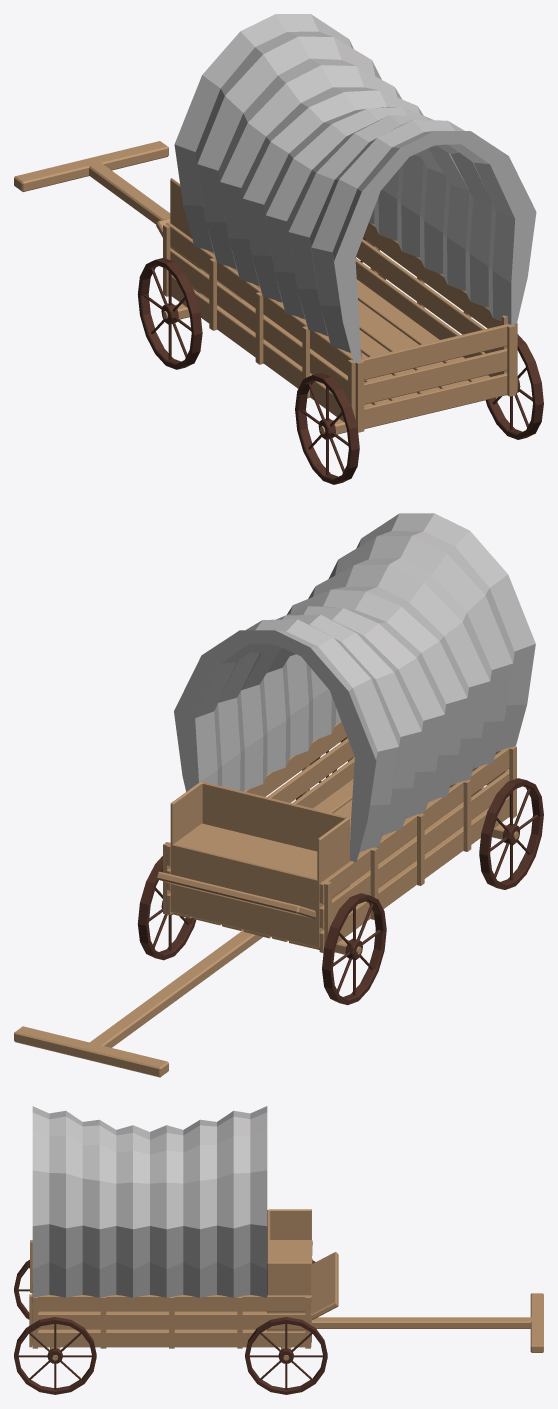
Rendered from cart-c.glb.
The picture shows the model from 3 angles, top to bottom: view 1: azimuth 30°, elevation 25°; view 2: azimuth 150°, elevation 25°; view 3: azimuth 270°, elevation 25°; orthographic projection. The views are drawn at different scales.
Visible parts, largest first — view 1: Cart C (×3); view 2: Cart C (×3); view 3: Cart C (×3).
Boxes of the visible parts, bbox=[...] form: Cart C (×3): bbox=[14, 14, 543, 484]; Cart C (×3): bbox=[14, 513, 543, 1077]; Cart C (×3): bbox=[14, 1106, 543, 1394].
Size of the model in its own units: 2.16 by 3.45 by 6.68.
